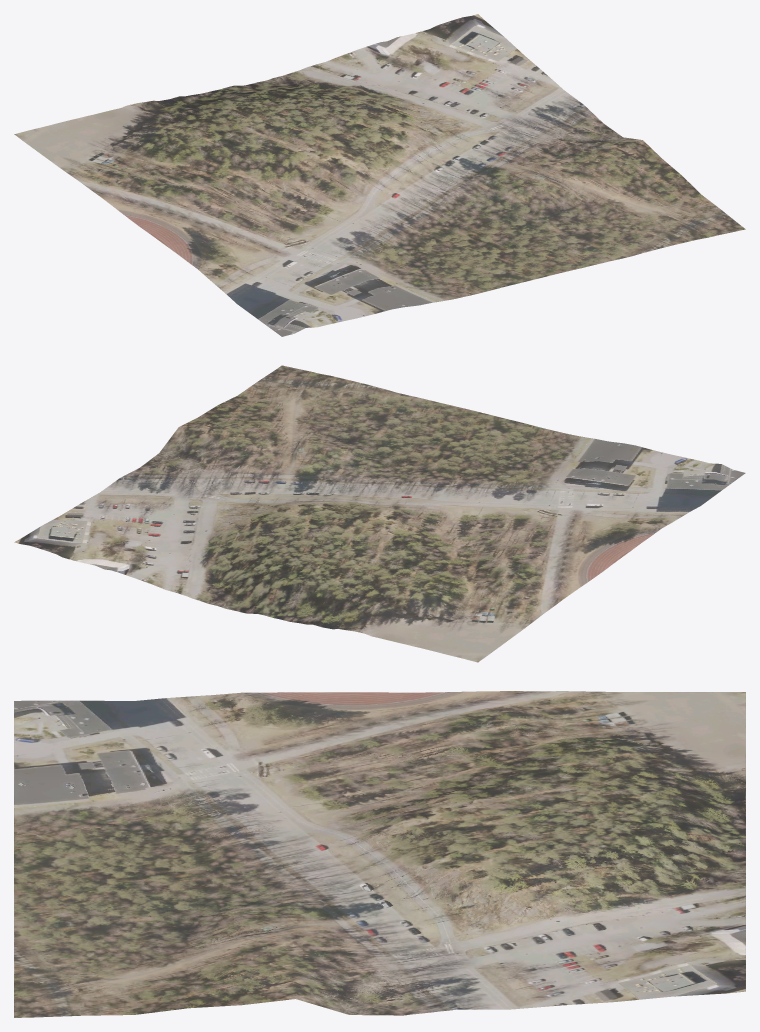
File: CM_Terrain_24491482_6815493.fbx
3 renders of one model, top to bottom at view 1: azimuth 30°, elevation 25°; view 2: azimuth 150°, elevation 25°; view 3: azimuth 270°, elevation 25°, orthographic. The views are drawn at different scales.
Parts seen in each view (by area): view 1: CM_Terrain_24491482_6815493_LOD0; view 2: CM_Terrain_24491482_6815493_LOD0; view 3: CM_Terrain_24491482_6815493_LOD0.
Boxes of the visible parts, box(x1,y1,x2,y2) form: CM_Terrain_24491482_6815493_LOD0: box(14, 14, 745, 336); CM_Terrain_24491482_6815493_LOD0: box(14, 365, 745, 662); CM_Terrain_24491482_6815493_LOD0: box(14, 691, 745, 1017).
Size of what is drawn, in the model's own units: 205 by 10.48 by 205.
